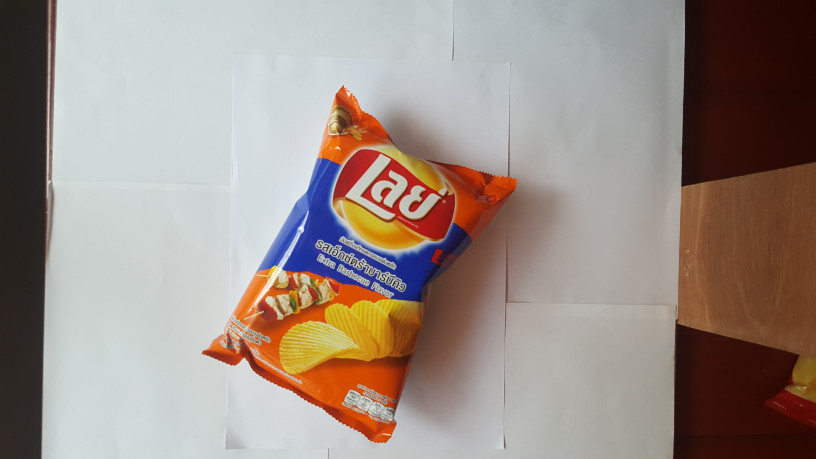lays-bbq: (202, 73, 521, 459)
